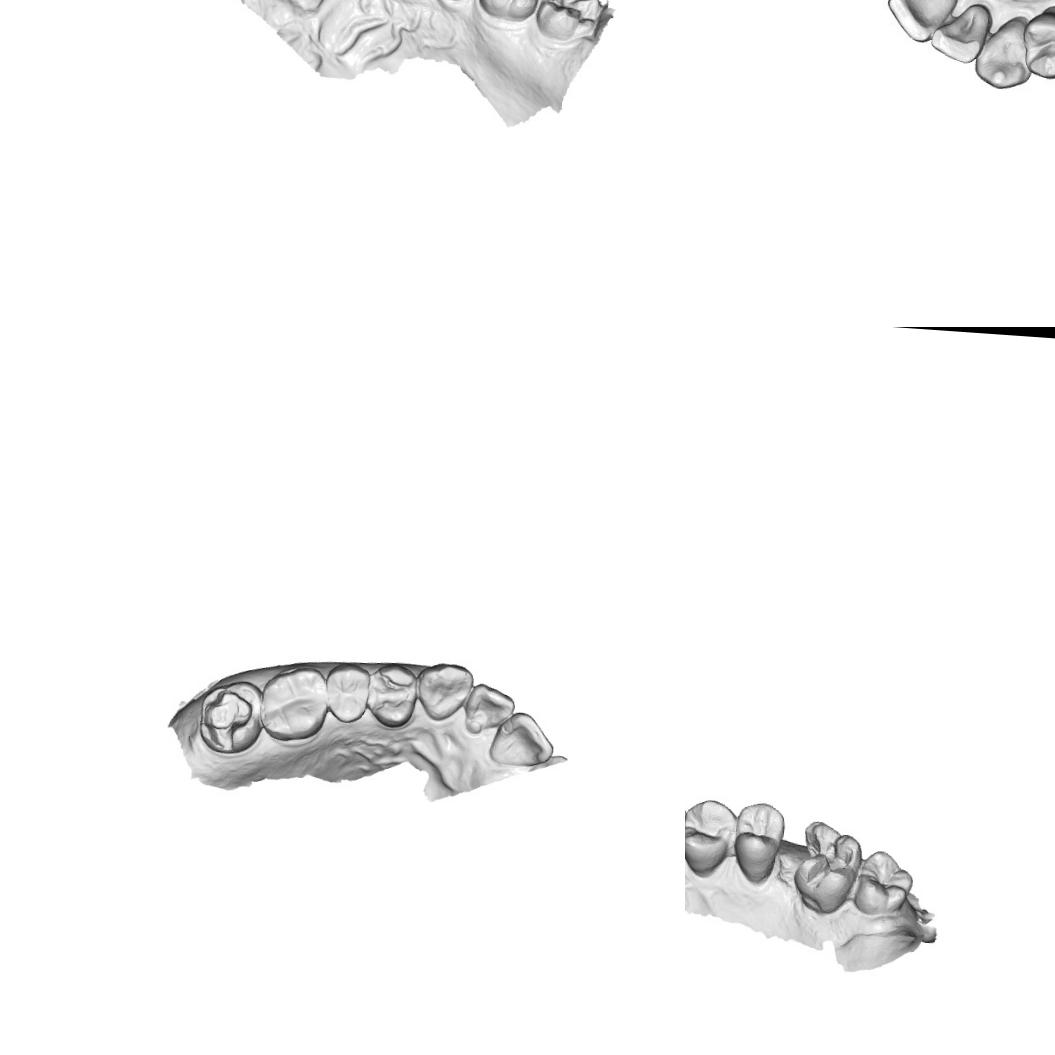canine: (969, 13, 1034, 93), (413, 659, 475, 723)
incisor: (927, 0, 991, 67), (486, 710, 555, 770), (883, 0, 958, 45), (461, 680, 516, 738)
inlay: (196, 686, 255, 754)
molar: (790, 818, 868, 917), (257, 664, 330, 743), (850, 847, 920, 923), (534, 0, 604, 43), (473, 0, 544, 24)
premolar: (730, 798, 790, 884), (685, 795, 736, 880), (366, 661, 418, 730), (322, 660, 370, 724), (1018, 6, 1055, 80)
